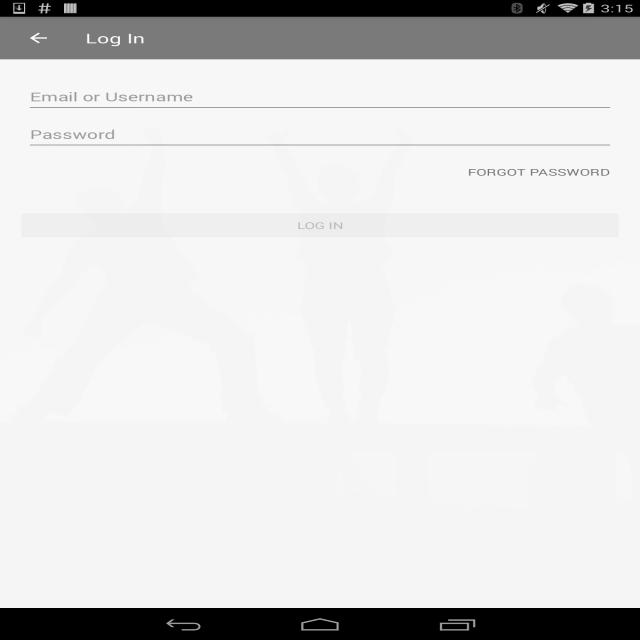Button: (17, 206, 625, 244)
EditText: (27, 86, 613, 112), (23, 127, 615, 150)
ImageButton: (19, 27, 60, 50)
TextView: (80, 23, 152, 49)
